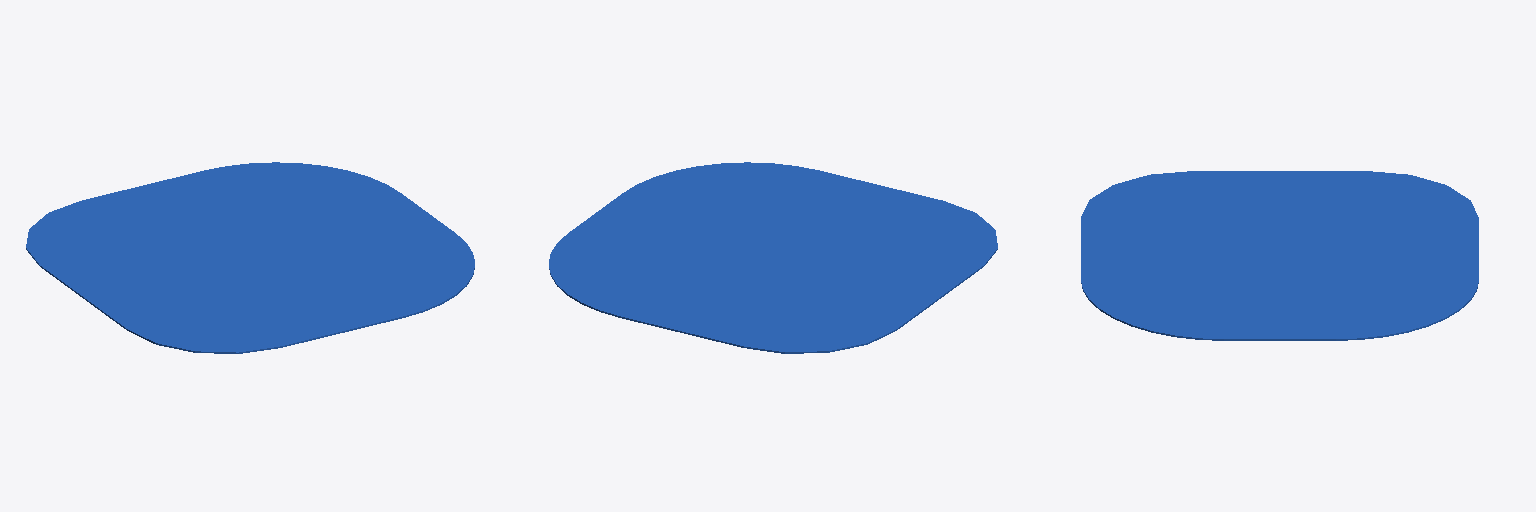
Rendered from sea_and_sand.obj.
3 renders of one model, left to right at view 1: azimuth 30°, elevation 25°; view 2: azimuth 150°, elevation 25°; view 3: azimuth 270°, elevation 25°, orthographic.
Parts seen in each view (by area): view 1: Plane.007; view 2: Plane.007; view 3: Plane.007.
Boxes of the visible parts, box(x1,y1,x2,y2) form: Plane.007: box(26, 162, 474, 353); Plane.007: box(549, 162, 997, 353); Plane.007: box(1081, 171, 1478, 340).
Size of the model in its own units: 131 by 0.61 by 131.